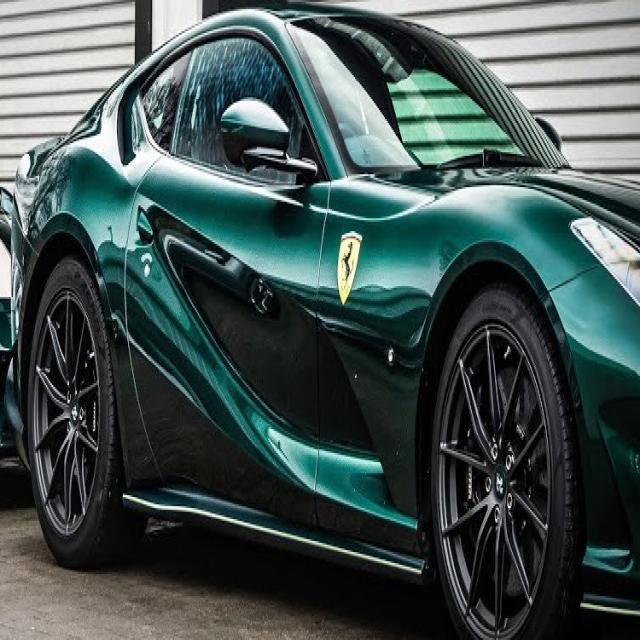green: (19, 19, 640, 640)
